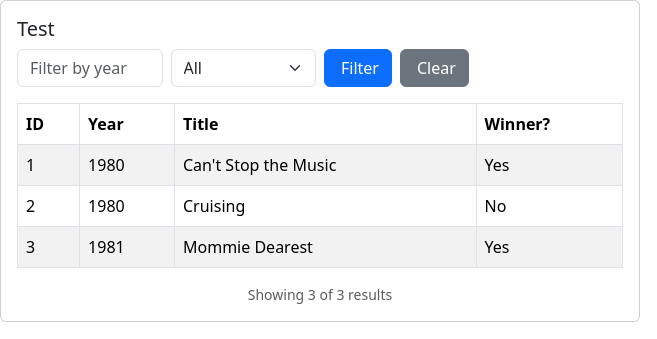
MovieCard › Clear functionality › should clear year filter
Type "1980" into the number field with placeholder "Filter by year".
click(90, 68); type("1980")  # box [17,49,162,87]
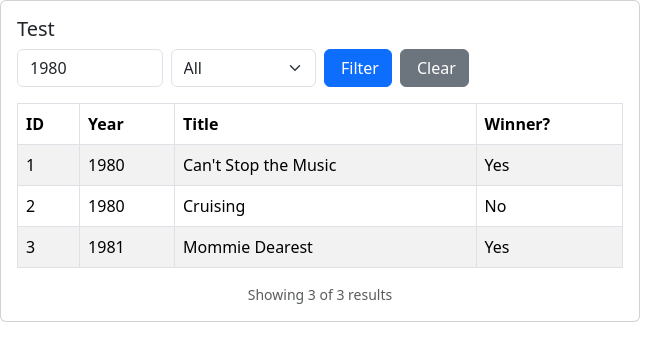
Click the button "Clear".
click(434, 68)  # box [400,49,469,87]
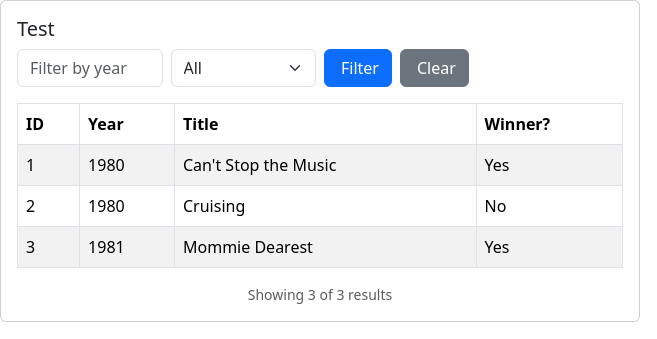
Check: the number field with placeholder "Filter by year" is empty, box [17,49,162,87]
